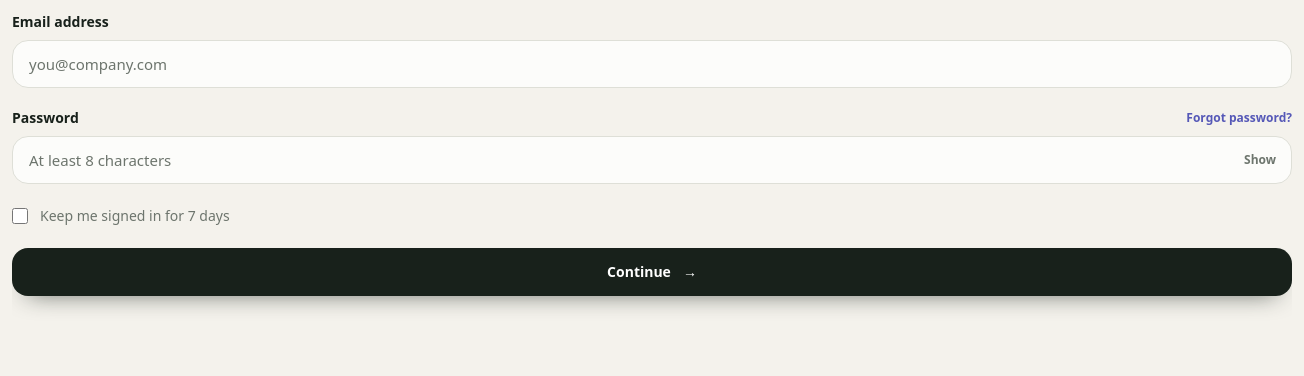
Test: AuthForm › shows field-level validation after submitting an empty login
Click the button "Continue →": (652, 272) [12,248,1292,296]
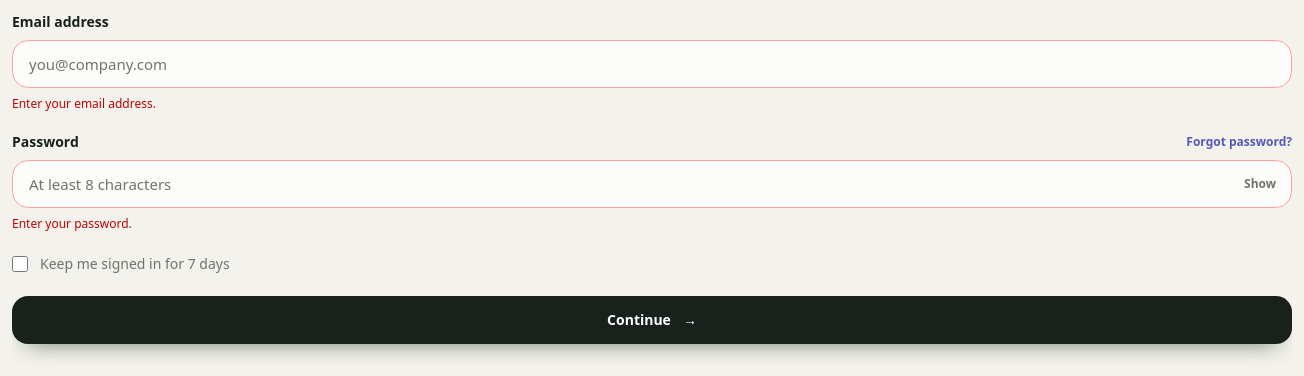
Expected: the text "Enter your email address." is shown, [12,95,156,112]
Expected: the text "Enter your password." is shown, [12,215,132,232]
